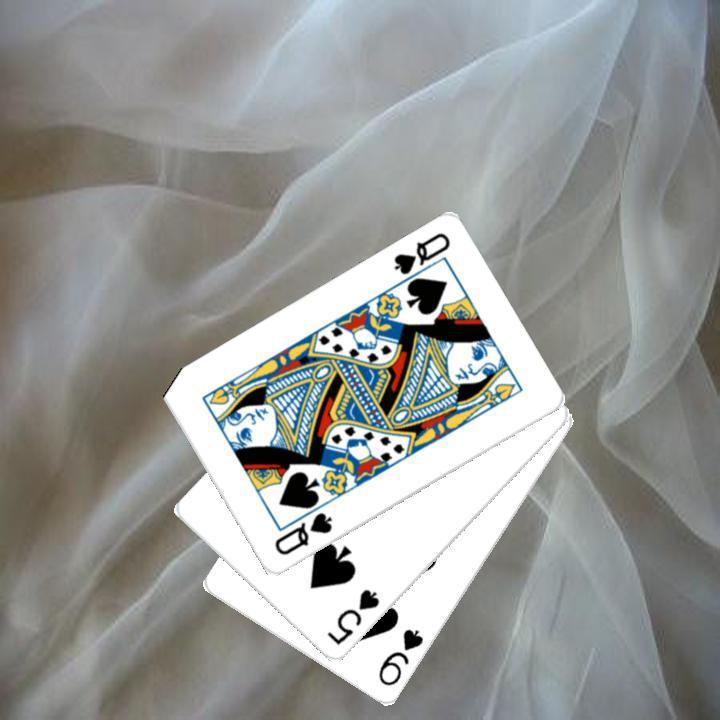5: (323, 585, 382, 648)
9: (374, 625, 426, 689)
Q: (269, 508, 335, 558), (389, 229, 453, 278)
